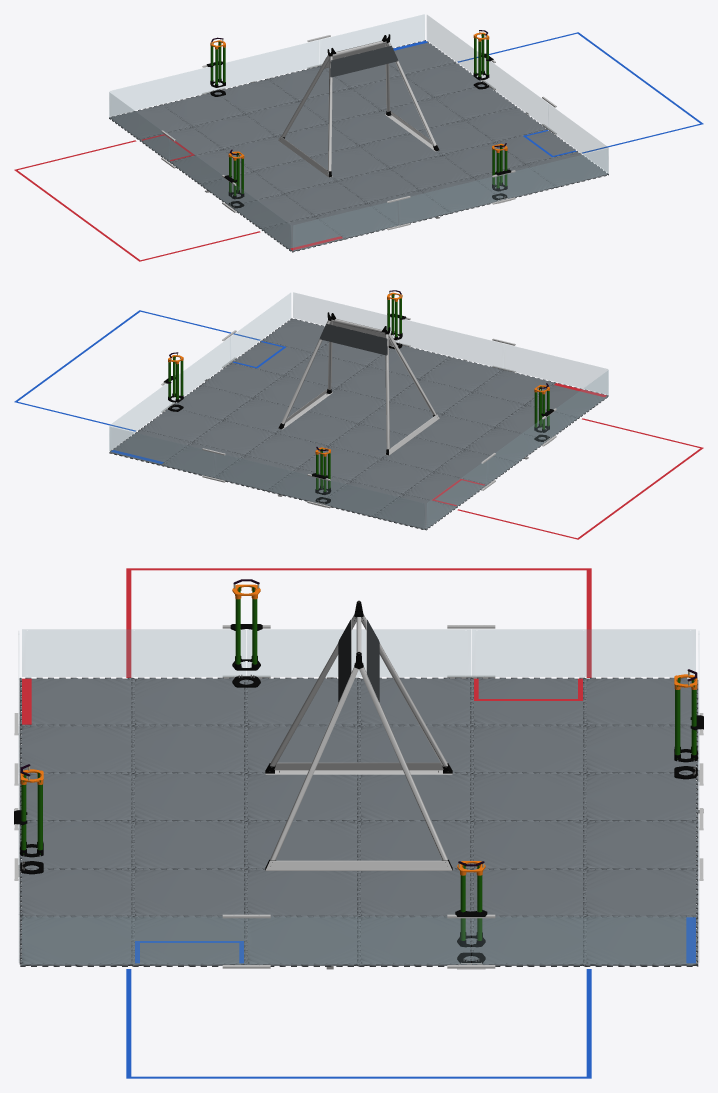
The model's file is field.glb.
The picture shows the model from 3 angles, top to bottom: view 1: azimuth 30°, elevation 25°; view 2: azimuth 150°, elevation 25°; view 3: azimuth 270°, elevation 25°; orthographic projection. The views are drawn at different scales.
Visible parts, largest first — view 1: am-2499-Center: FIRST Tech Challenge Field Soft Tiles (×16), am-2499-Side: FIRST Tech Challenge Field Soft Tiles (×16), FTC Field Side Glass 11in (×12), am-2499-Corner: FIRST Tech Challenge Field Soft Tiles (×4), am-5883: Panel Sticker, am-5876: A-Frame Leg; view 2: am-2499-Center: FIRST Tech Challenge Field Soft Tiles (×16), am-2499-Side: FIRST Tech Challenge Field Soft Tiles (×16), FTC Field Side Glass 11in (×12), am-2499-Corner: FIRST Tech Challenge Field Soft Tiles (×4), am-5883: Panel Sticker, am-5876: A-Frame Leg; view 3: am-2499-Side: FIRST Tech Challenge Field Soft Tiles (×16), am-2499-Center: FIRST Tech Challenge Field Soft Tiles (×16), FTC Field Side Glass 11in (×6), am-2499-Corner: FIRST Tech Challenge Field Soft Tiles (×4), am-5876: A-Frame Leg (×4), am-5878: Sheet Metal Foot Bar (×2), am-5883: Panel Sticker (×2), Gaffer Tape, Blue, 1in Wide, 94.82in Long, Gaffer Tape, Red, 1in Wide, 94.82in Long.
Part boxes in pixels (bbox=[...]): am-2499-Center: FIRST Tech Challenge Field Soft Tiles (×16): bbox=[192, 75, 525, 215]; am-2499-Side: FIRST Tech Challenge Field Soft Tiles (×16): bbox=[139, 62, 577, 239]; FTC Field Side Glass 11in (×12): bbox=[109, 14, 608, 250]; am-2499-Corner: FIRST Tech Challenge Field Soft Tiles (×4): bbox=[109, 40, 608, 252]; am-5883: Panel Sticker: bbox=[330, 46, 398, 77]; am-5876: A-Frame Leg: bbox=[328, 56, 332, 171]; am-2499-Center: FIRST Tech Challenge Field Soft Tiles (×16): bbox=[192, 353, 524, 493]; am-2499-Side: FIRST Tech Challenge Field Soft Tiles (×16): bbox=[140, 340, 578, 516]; FTC Field Side Glass 11in (×12): bbox=[109, 292, 608, 528]; am-2499-Corner: FIRST Tech Challenge Field Soft Tiles (×4): bbox=[109, 318, 608, 530]; am-5883: Panel Sticker: bbox=[319, 324, 387, 355]; am-5876: A-Frame Leg: bbox=[385, 334, 389, 449]; am-2499-Side: FIRST Tech Challenge Field Soft Tiles (×16): bbox=[19, 677, 698, 966]; am-2499-Center: FIRST Tech Challenge Field Soft Tiles (×16): bbox=[131, 724, 586, 917]; FTC Field Side Glass 11in (×6): bbox=[22, 629, 695, 963]; am-2499-Corner: FIRST Tech Challenge Field Soft Tiles (×4): bbox=[19, 677, 698, 966]; am-5876: A-Frame Leg (×4): bbox=[270, 614, 447, 866]; am-5878: Sheet Metal Foot Bar (×2): bbox=[265, 762, 452, 870]; am-5883: Panel Sticker (×2): bbox=[338, 620, 379, 701]; Gaffer Tape, Blue, 1in Wide, 94.82in Long: bbox=[131, 1076, 586, 1078]; Gaffer Tape, Red, 1in Wide, 94.82in Long: bbox=[131, 568, 586, 570].
Size of the model in its own units: 6383 by 1147 by 3647.
